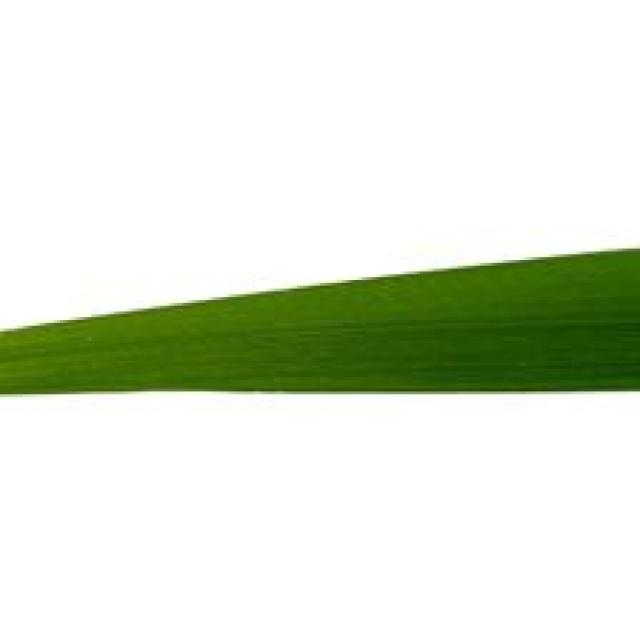Rice___Healthy_Rice_Plant: (1, 249, 637, 396)
